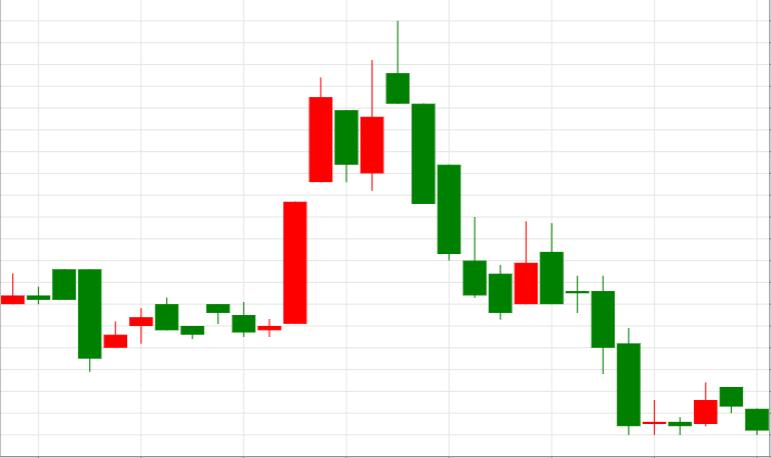shooting_star_fall: (258, 20, 409, 336)
